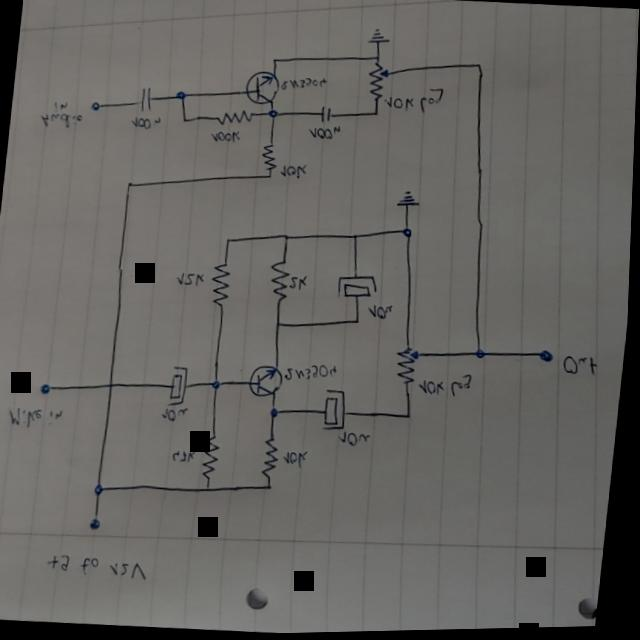capacitor: (336, 272, 382, 302), (321, 387, 351, 433), (168, 364, 192, 405), (133, 85, 156, 114), (318, 105, 334, 125)
crossover: (107, 380, 117, 390)
ground: (395, 189, 422, 211), (365, 28, 391, 48)
junction: (475, 347, 489, 362), (399, 227, 414, 241), (268, 407, 282, 421), (210, 378, 224, 392), (94, 482, 107, 496), (173, 89, 187, 101), (471, 61, 484, 73), (279, 233, 293, 244), (352, 316, 364, 328), (266, 109, 279, 120), (273, 320, 284, 331), (350, 232, 361, 243), (222, 236, 234, 246), (203, 485, 215, 495), (404, 412, 415, 422), (266, 483, 276, 493), (268, 57, 278, 66), (179, 116, 189, 125), (124, 180, 134, 189), (372, 55, 381, 63), (371, 111, 379, 119), (266, 175, 273, 181)
resistor: (363, 60, 393, 103), (209, 259, 234, 309), (394, 345, 422, 387), (267, 258, 293, 303), (201, 433, 224, 483), (262, 436, 282, 480), (215, 110, 253, 128), (259, 144, 279, 172)
terminal: (535, 350, 557, 365), (90, 516, 104, 532), (39, 382, 53, 396), (88, 100, 101, 112)
text: (49, 552, 154, 583), (381, 83, 445, 117), (417, 371, 475, 402), (6, 402, 66, 430), (37, 98, 84, 132), (284, 360, 340, 387), (277, 74, 328, 96), (561, 354, 601, 381), (127, 112, 163, 131), (339, 429, 374, 448), (209, 127, 243, 146), (306, 124, 341, 142), (175, 270, 208, 289), (161, 404, 192, 423), (284, 449, 312, 470), (365, 303, 395, 322), (278, 163, 309, 181), (171, 448, 199, 465), (287, 274, 310, 293)
transistor: (242, 70, 280, 108), (248, 364, 287, 400)
